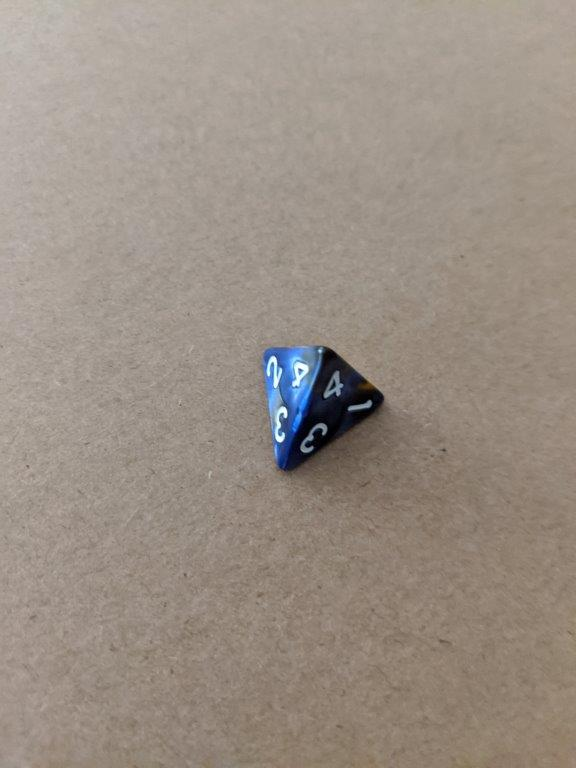d4-4: (261, 342, 384, 473)
